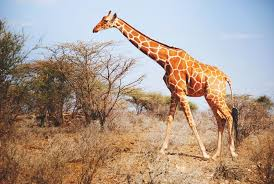Jirafa: (84, 7, 197, 87)
